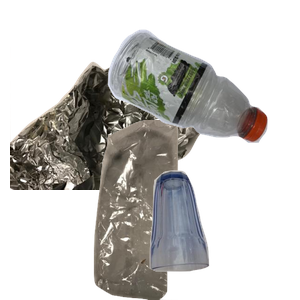glass: (147, 168, 300, 300)
metal: (10, 47, 216, 227)
plastic: (105, 27, 300, 162)
trash: (70, 120, 256, 300)
